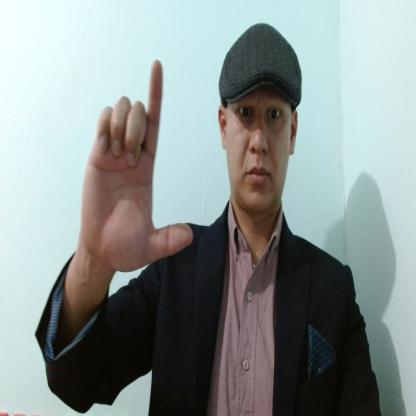L: (80, 58, 192, 271)
